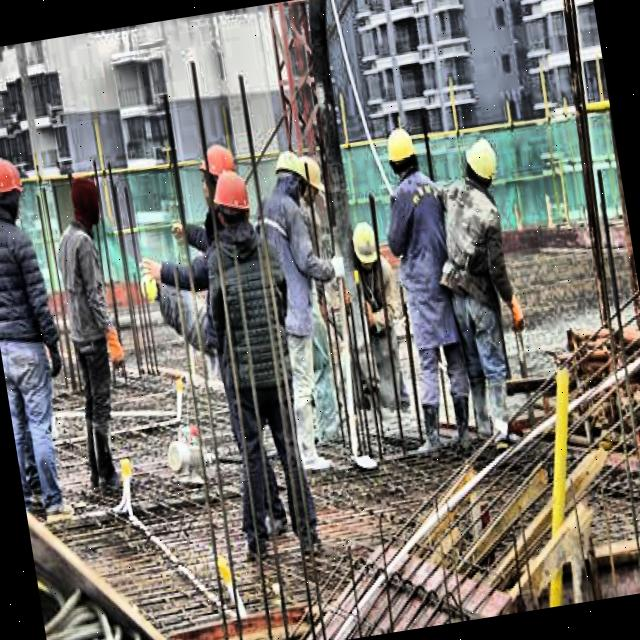helmet: (194, 140, 243, 207), (210, 169, 256, 234), (346, 213, 384, 276), (271, 146, 308, 207), (0, 149, 28, 226), (381, 120, 418, 178), (462, 138, 501, 192), (294, 152, 328, 208), (133, 265, 164, 307)
